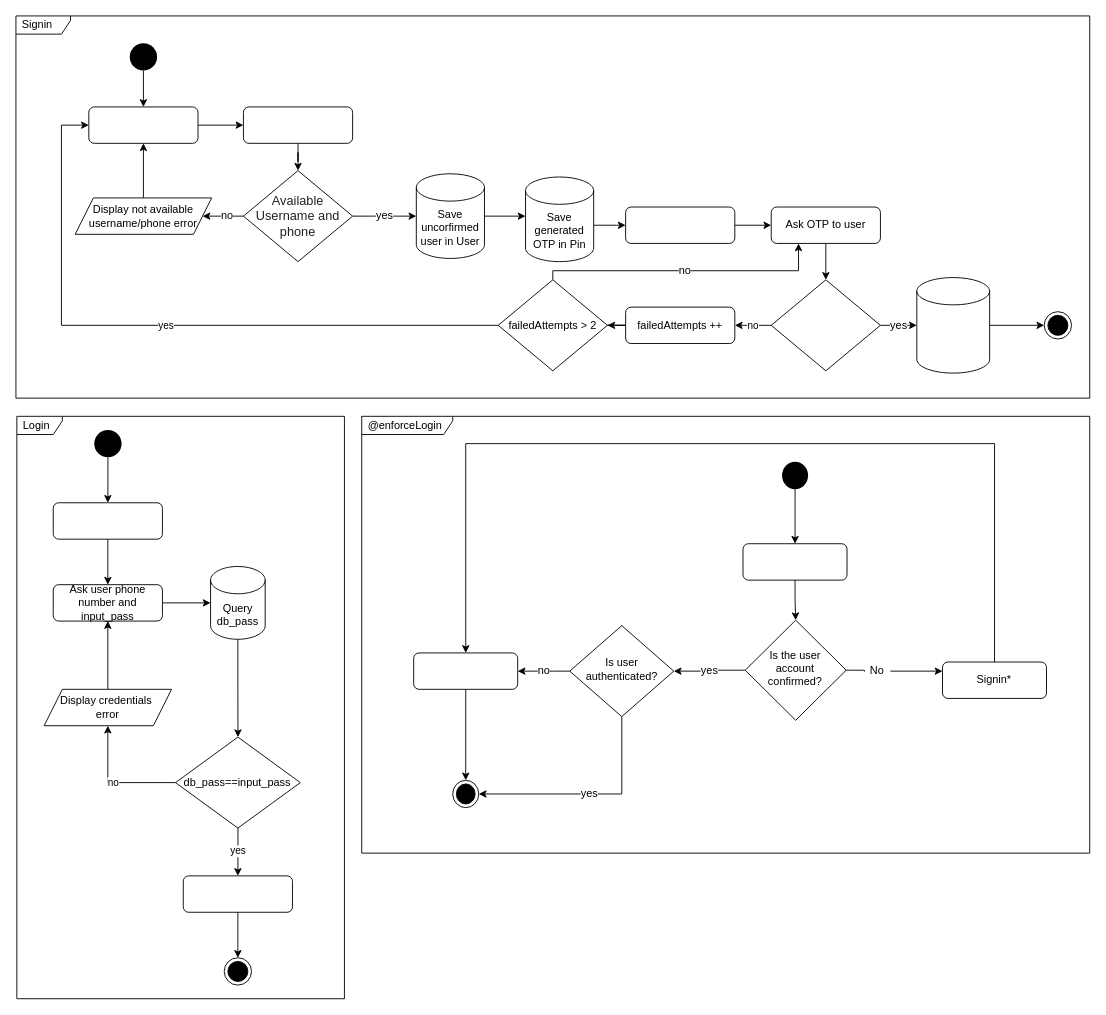
Some shapes in this 1106 by 1015 pixel diagram are drawn without their labels. The shapes that lost their labels are listed below. From the top down, each one's box as (x1, y1, x2, y2) in pixels, then its label:
(88, 106, 198, 143): Redirect to /signin
(243, 106, 353, 143): Ask user data
(625, 206, 735, 243): Send generated OTP
(770, 279, 880, 371): db_pin==input_pin
(916, 277, 990, 373): Change user confirmation status in User
(52, 502, 162, 539): Redirect to /loginuser
(742, 543, 847, 580): Ask user authentication
(413, 652, 518, 689): Login*
(182, 875, 292, 912): Authenticated homepage
